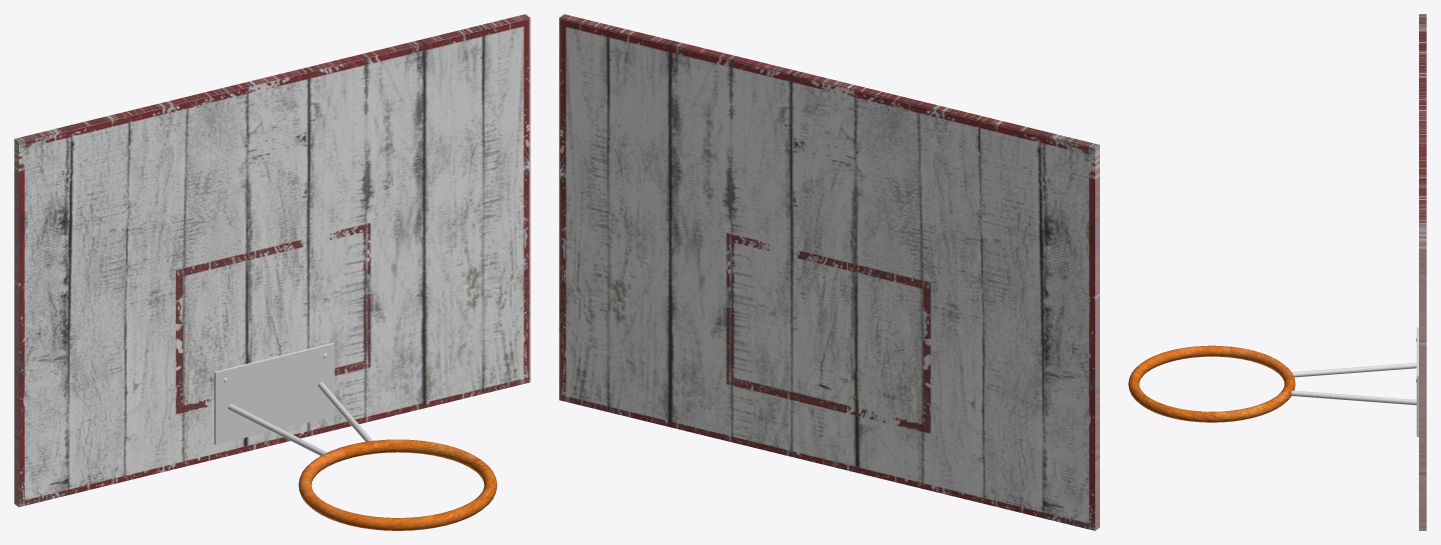
File: aro.glb
3 views of the same model, side by side, from view 1: azimuth 30°, elevation 25°; view 2: azimuth 150°, elevation 25°; view 3: azimuth 270°, elevation 25° (orthographic). The views are drawn at different scales.
Parts seen in each view (by area): view 1: aro; view 2: aro; view 3: aro.
Boxes of the visible parts, <box> form: aro: <box>14,14,530,530</box>; aro: <box>559,14,1099,530</box>; aro: <box>1128,14,1426,530</box>.
Bounding box in the file's own units: 1.54 × 1.05 × 0.9246.
3 materials, 2 textured.
